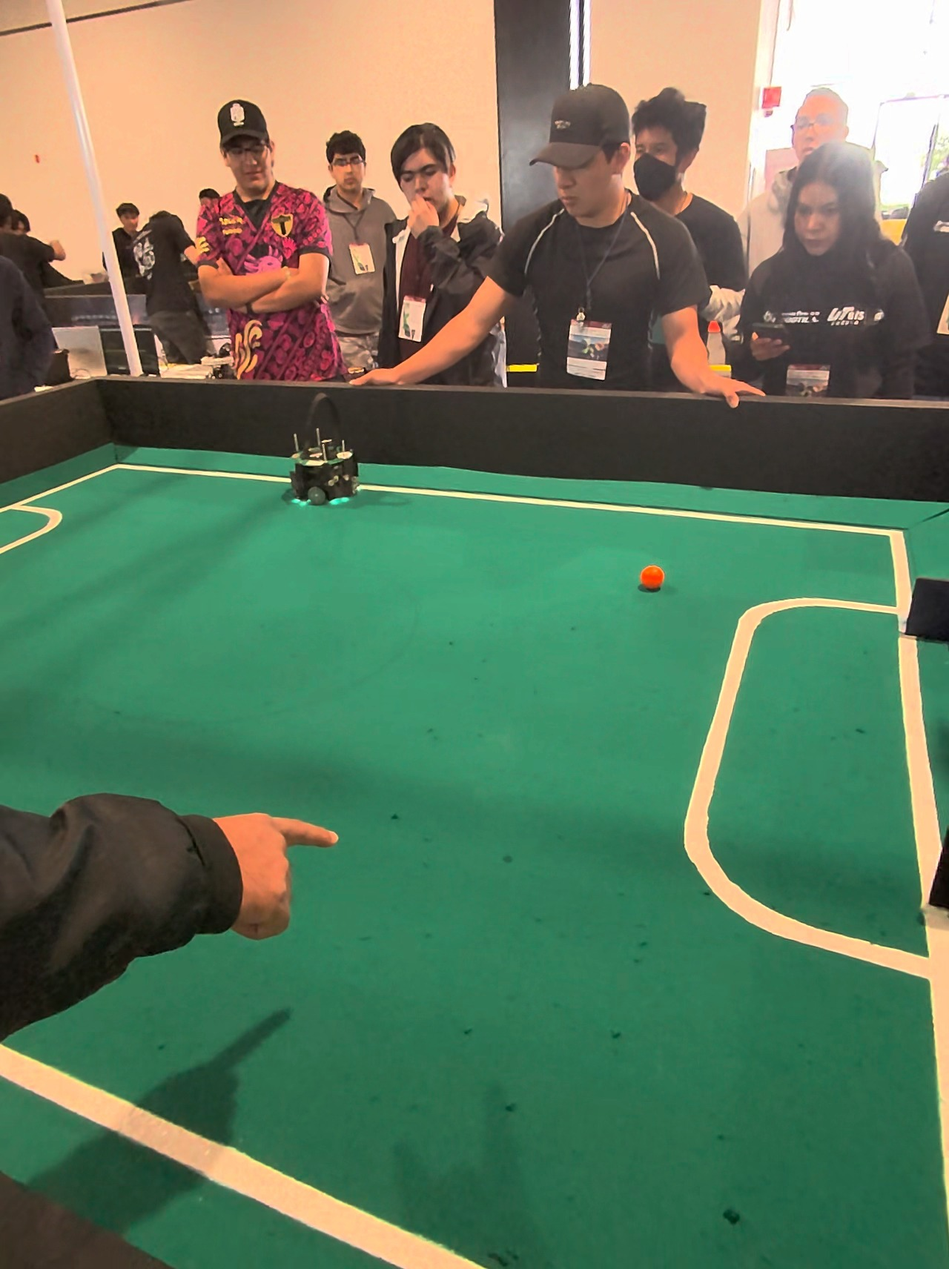Robot: (277, 386, 363, 519)
pelota: (626, 554, 674, 604)
